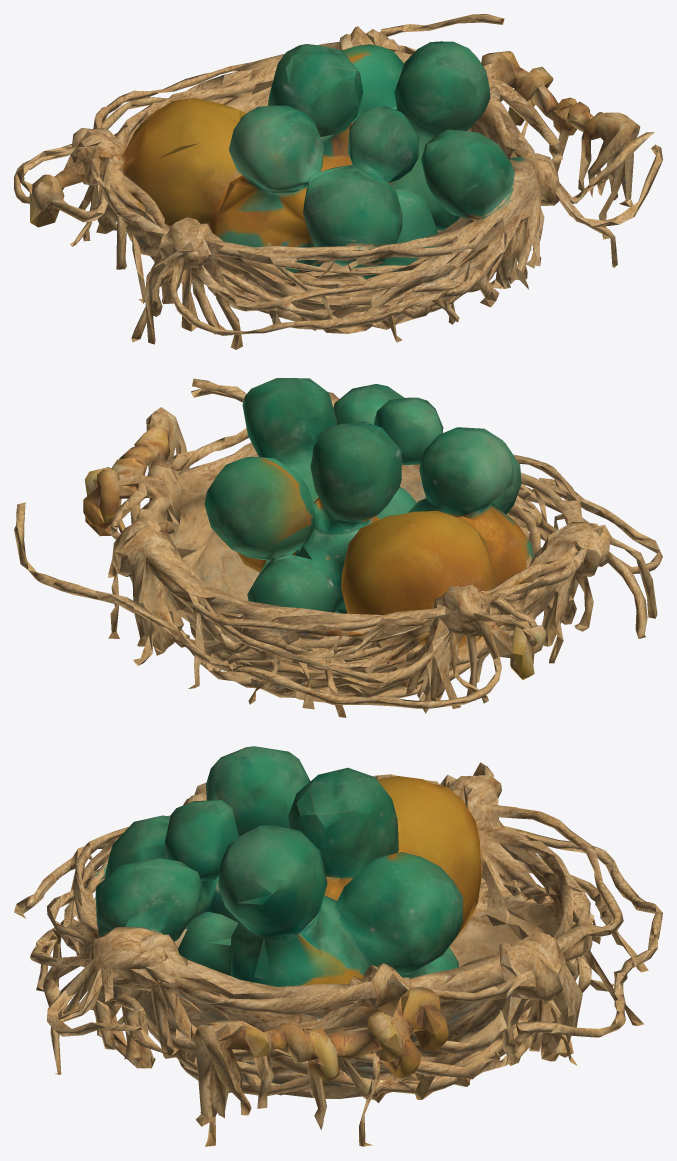
Rendered from glass-floats.glb.
3 views of the same model, one above another, from view 1: azimuth 30°, elevation 25°; view 2: azimuth 150°, elevation 25°; view 3: azimuth 270°, elevation 25° (orthographic). The views are drawn at different scales.
Visible parts, largest first — view 1: output_unwrapped; view 2: output_unwrapped; view 3: output_unwrapped.
Part boxes in pixels (x1,y1,x2,y2): output_unwrapped: [14, 14, 662, 349]; output_unwrapped: [14, 378, 662, 717]; output_unwrapped: [14, 746, 662, 1146].
Size of the model in its own units: 1.4 by 0.6014 by 1.34.
1 material, 1 textured.
